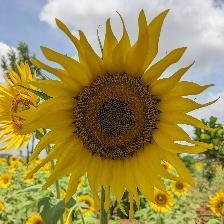sunflower: (10, 8, 224, 220)
